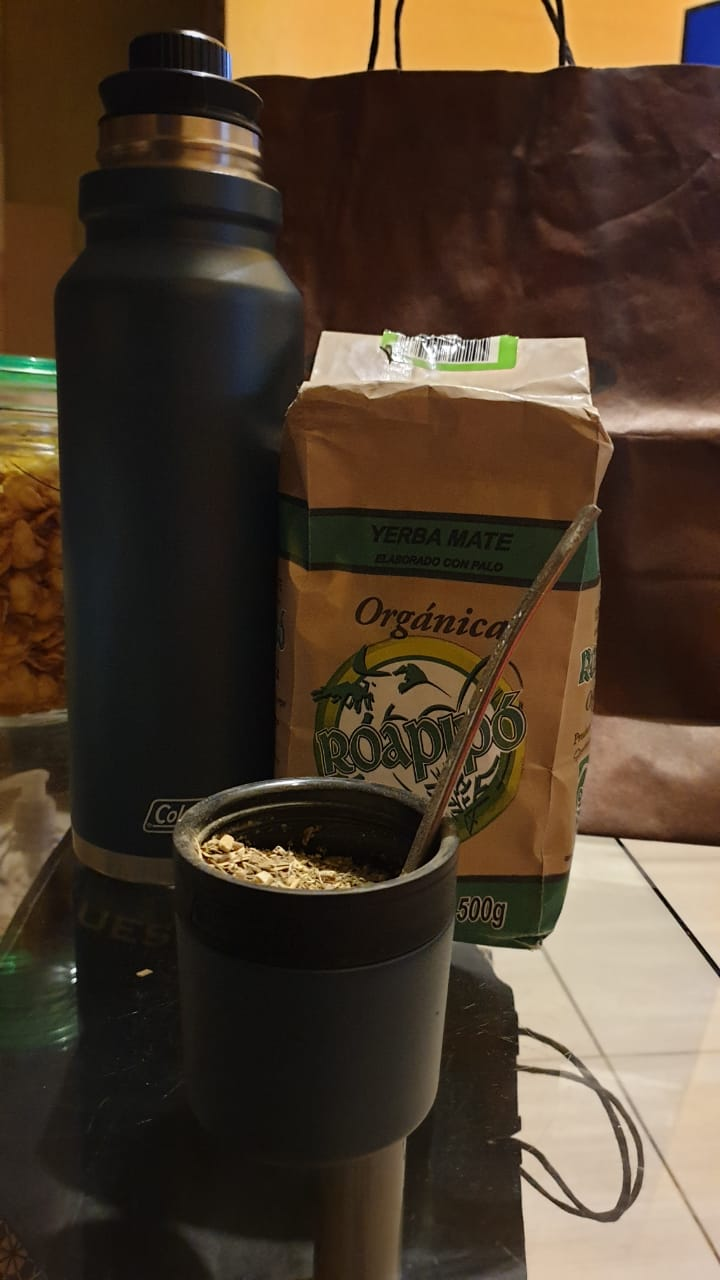mate: (152, 777, 479, 1159)
metal: (158, 762, 469, 1152)
